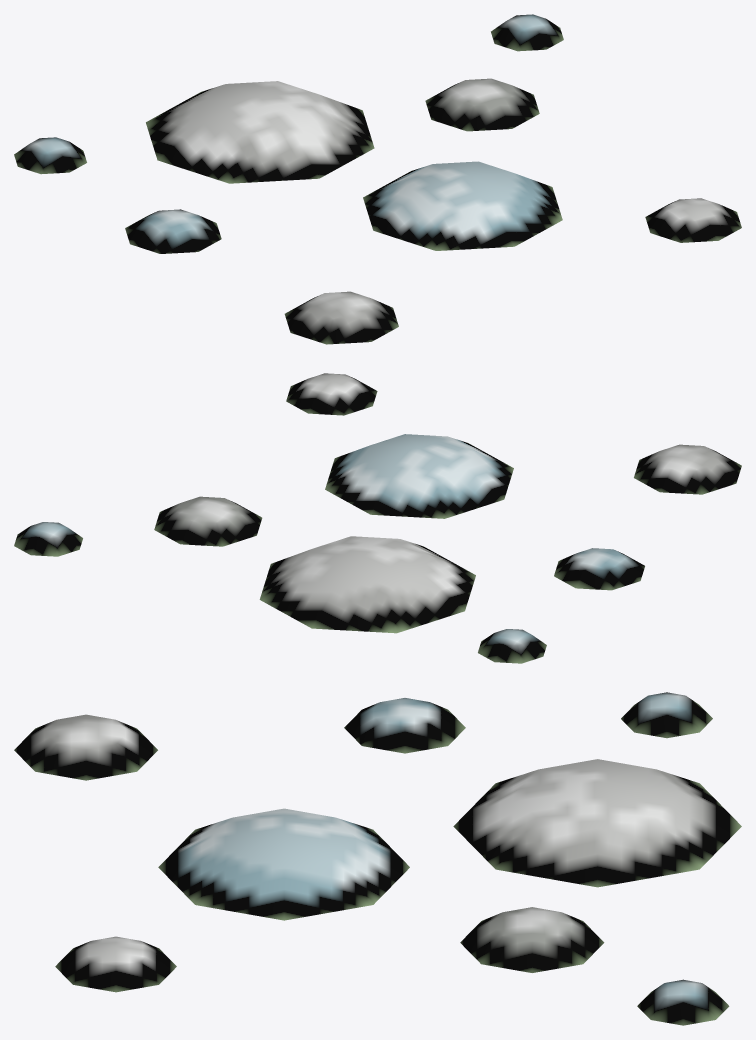
File: deco_floorPaveStonesGroupB.FBX
3 views of the same model, one above another, from view 1: azimuth 30°, elevation 25°; view 2: azimuth 150°, elevation 25°; view 3: azimuth 270°, elevation 25° (orthographic). The views are drawn at different scales.
Visible parts, largest first — view 1: deco_floorPaveStonesGroupB; view 2: deco_floorPaveStonesGroupB; view 3: deco_floorPaveStonesGroupB.
Boxes of the visible parts, <box> form: deco_floorPaveStonesGroupB: <box>14,14,741,344</box>; deco_floorPaveStonesGroupB: <box>14,373,741,663</box>; deco_floorPaveStonesGroupB: <box>14,692,741,1025</box>.
Bounding box in the file's own units: 1.78 × 0.1143 × 1.68.
Materials: 1 (1 with a texture image).
